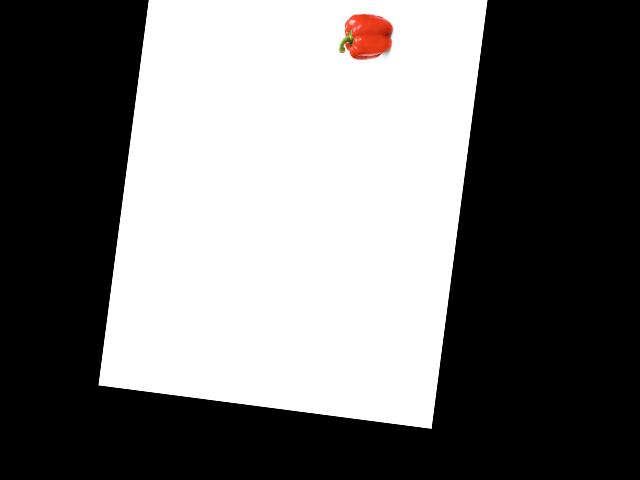bell_pepper: (337, 9, 396, 64)
